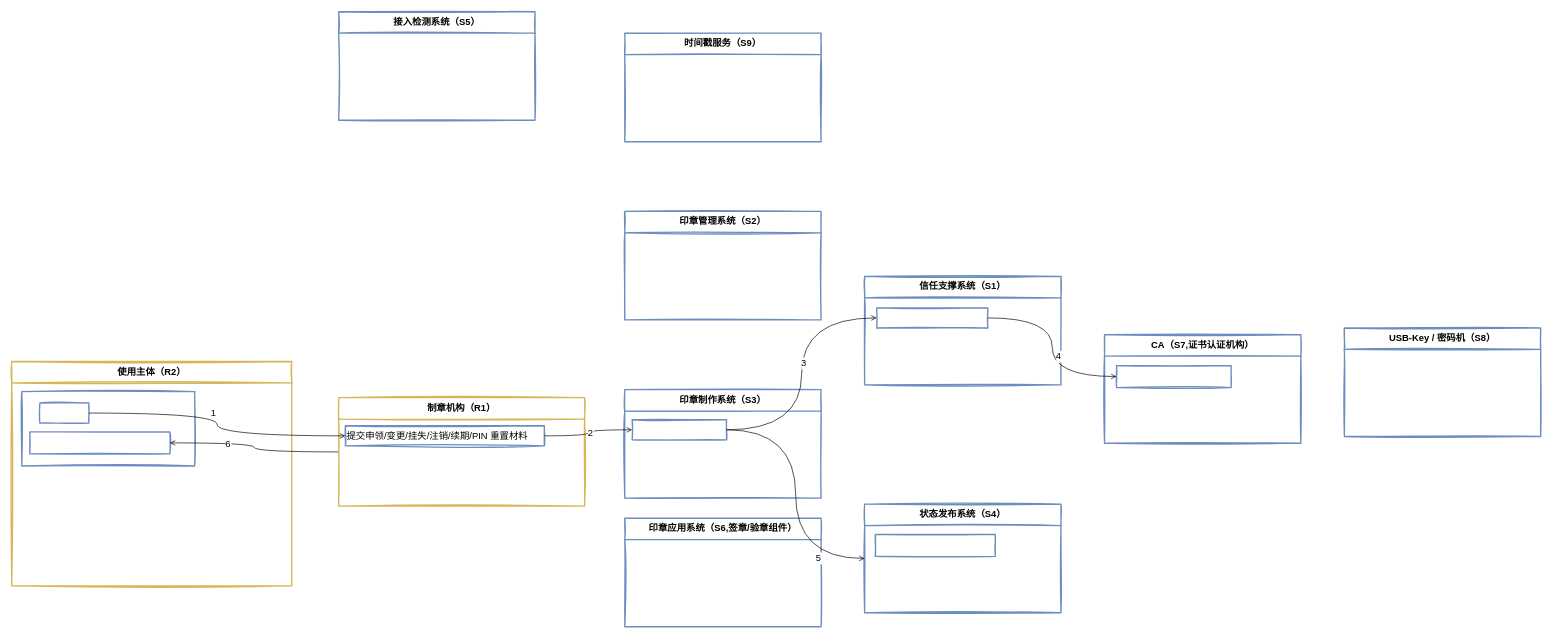
Some shapes in this 1552 by 638 pixel diagram are drawn without their labels. The shapes that lost their labels are listed below. From the top down, each one's centre as x and y in pixels, then its label:
the point at 932,317: 取印章根证书、唯一赋码
the point at 1173,376: 取所有者证书（一证一章）
the point at 64,412: 制章申请
the point at 679,429: 录入申请、发起制作
the point at 99,442: 交付 SESeal（USB-Key/加密包）
the point at 935,545: 推送印章状态（变更须签名）
